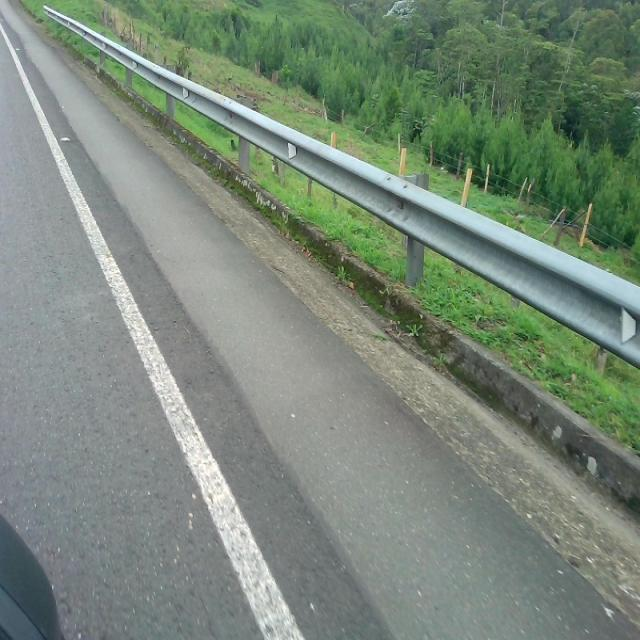DITCH: (1, 1, 638, 638), (2, 31, 600, 638)
